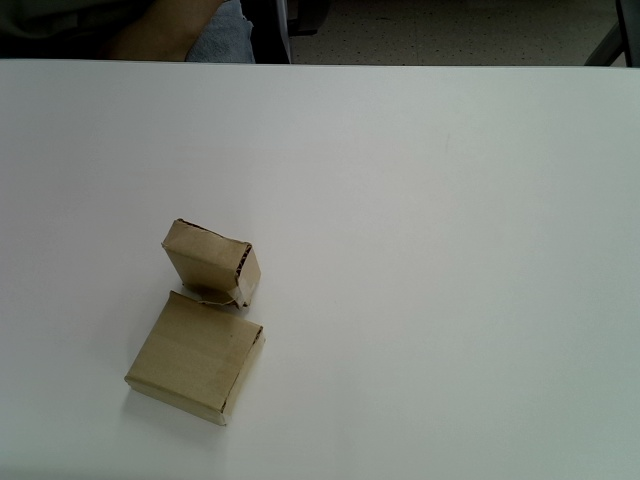defect: (161, 219, 261, 307)
normal: (125, 291, 265, 426)
